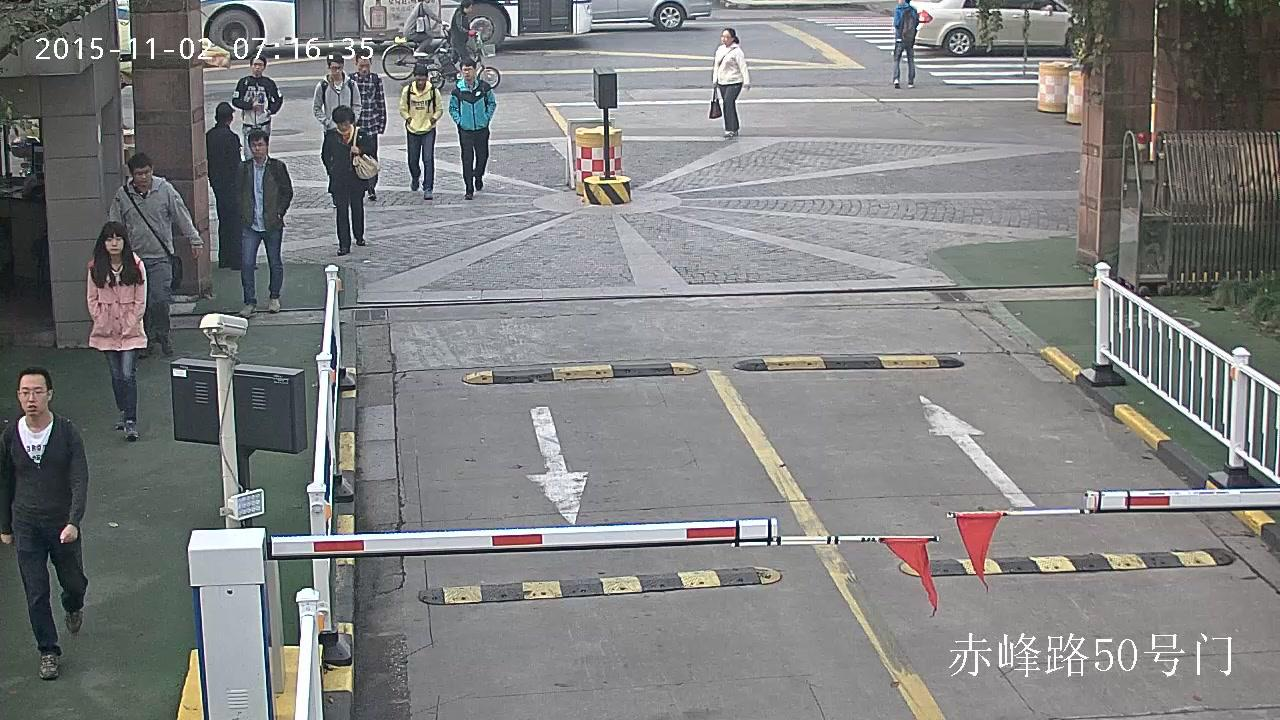face: (19, 374, 47, 416), (105, 233, 123, 254), (133, 165, 151, 186), (249, 137, 266, 157), (251, 58, 264, 74), (358, 58, 370, 74), (461, 65, 473, 79), (331, 62, 342, 77), (720, 30, 731, 44), (415, 75, 426, 87), (337, 121, 349, 131), (465, 4, 472, 12), (899, 0, 904, 3)
